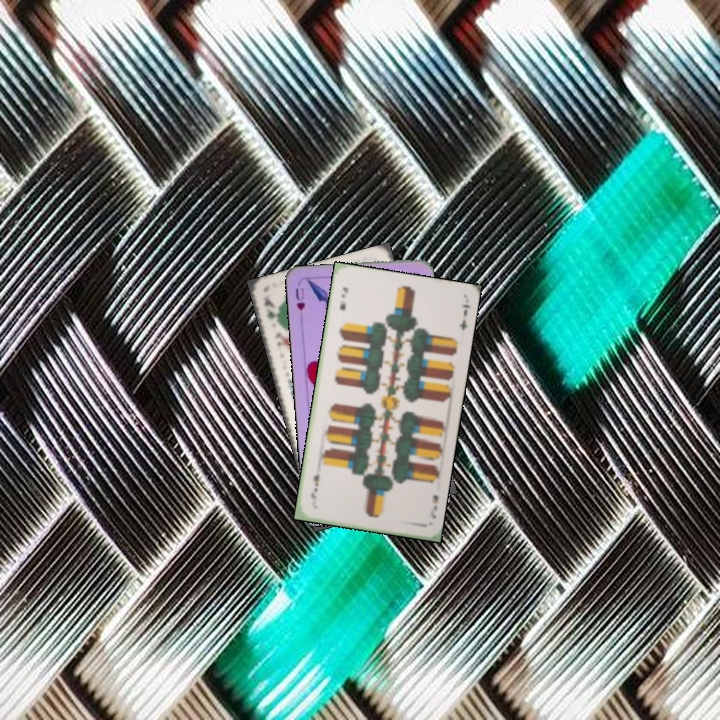E7: (426, 491, 441, 521), (336, 283, 350, 313)
GK: (260, 293, 282, 329)
HU: (291, 284, 308, 313)
